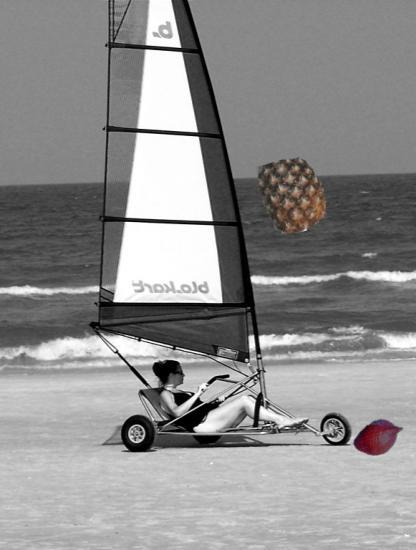Pineapple: (255, 158, 331, 234)
Salak: (353, 411, 406, 464)
